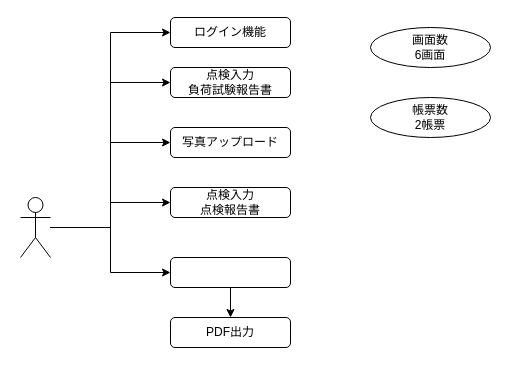
Some shapes in this 508 by 365 pixel diagram are drawn without their labels. Here are the shapes that lost their labels. From the top down, the centre of each, then its label:
At [35,227]: "点検者".
At [230,272]: "点検内容参照・修正".
